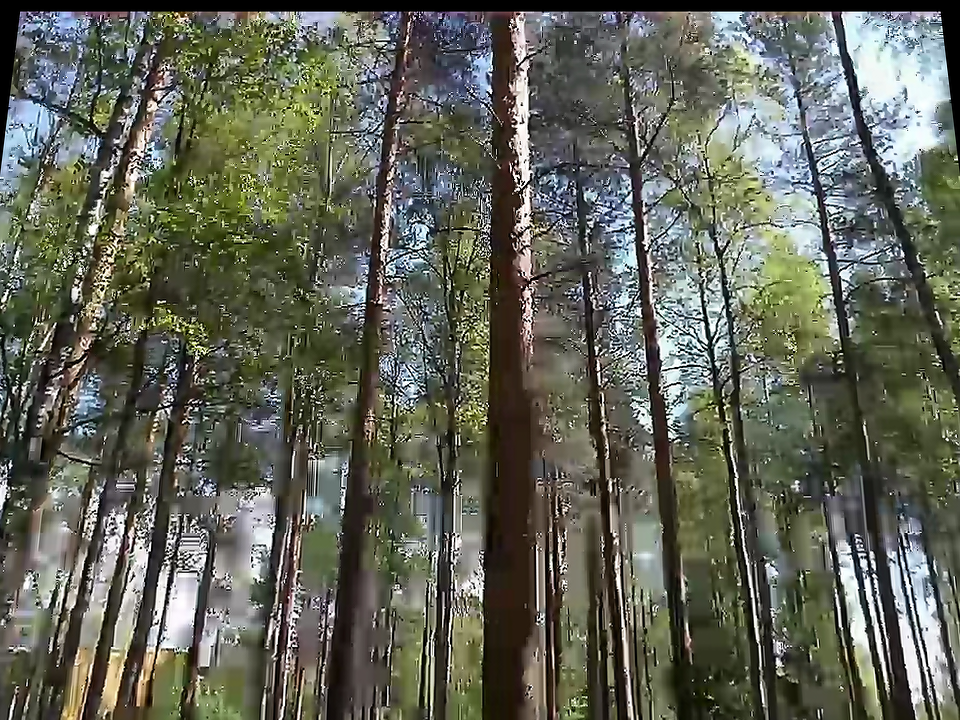branch: (723, 218, 780, 248), (409, 217, 482, 239), (729, 274, 792, 297), (533, 261, 576, 283), (325, 124, 382, 140), (664, 362, 713, 376), (401, 113, 440, 129)
trunk: (483, 26, 555, 716)
